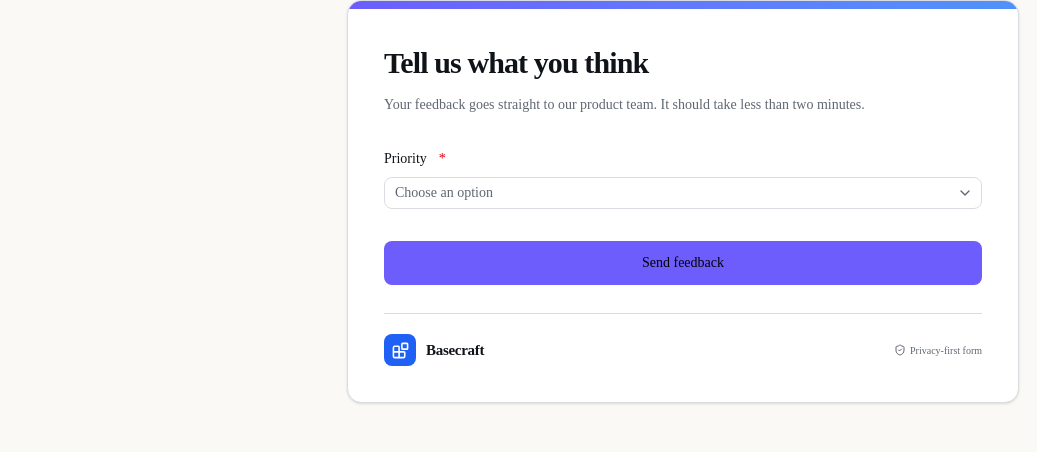
PublicForm accessibility and validation › keeps an initially empty choice input controlled while a visitor selects
Click the dropdown named "Priority": (444, 192) [384,177,982,209]
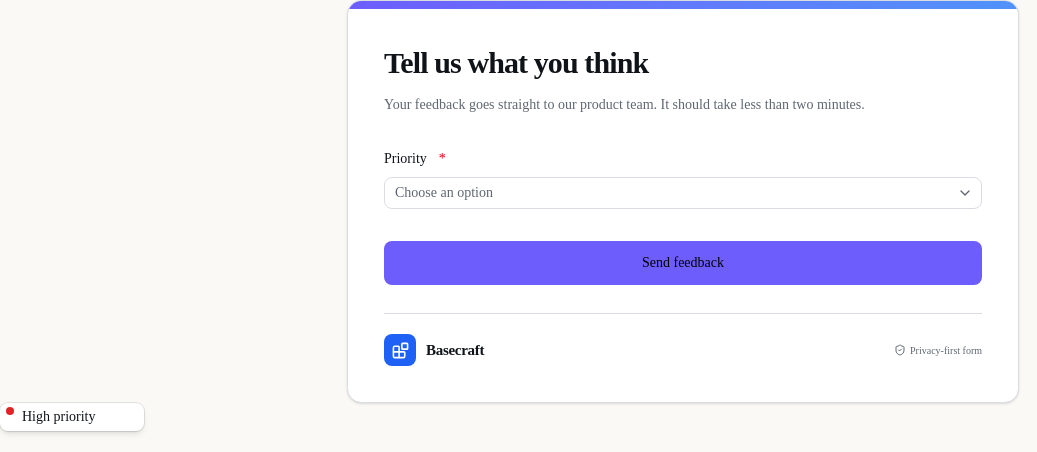
Click the option "High priority": (51, 416) [6,407,96,424]
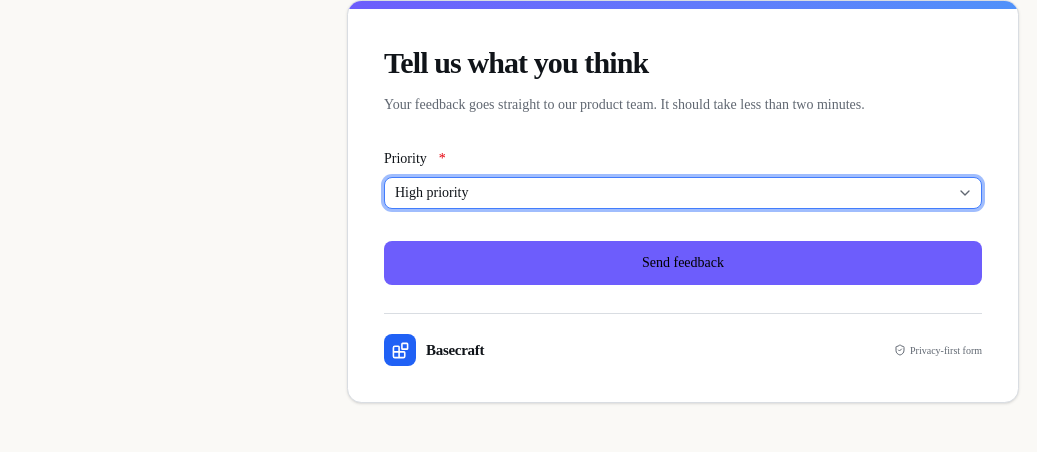
Now the dropdown labelled "High priority ▼" is shown, box [384,177,982,209]
